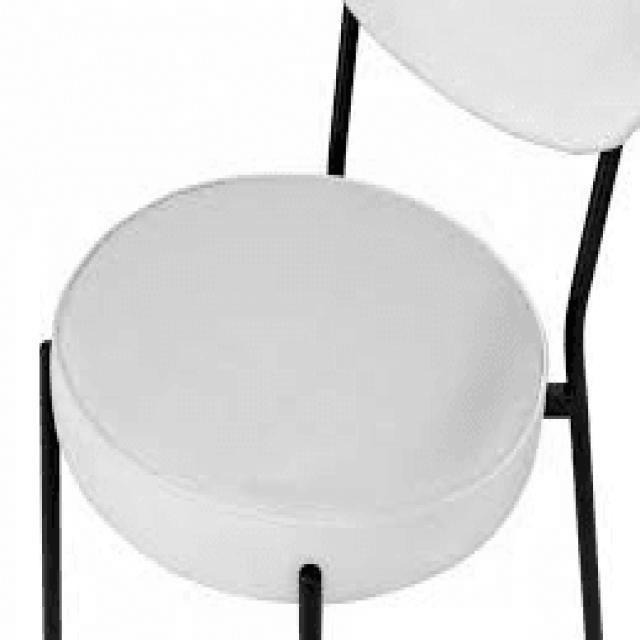chair: (38, 0, 638, 639)
